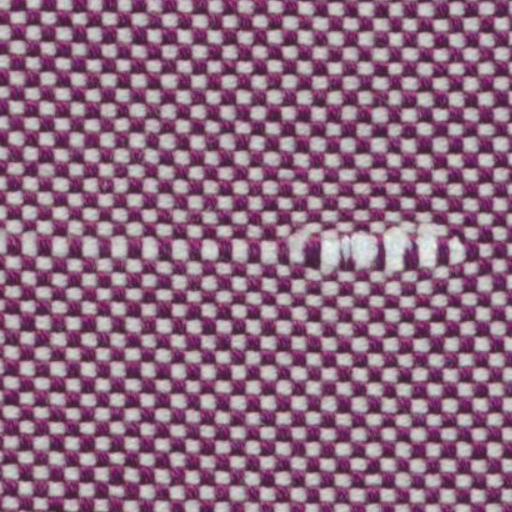DaiSha: (9, 202, 477, 291)
